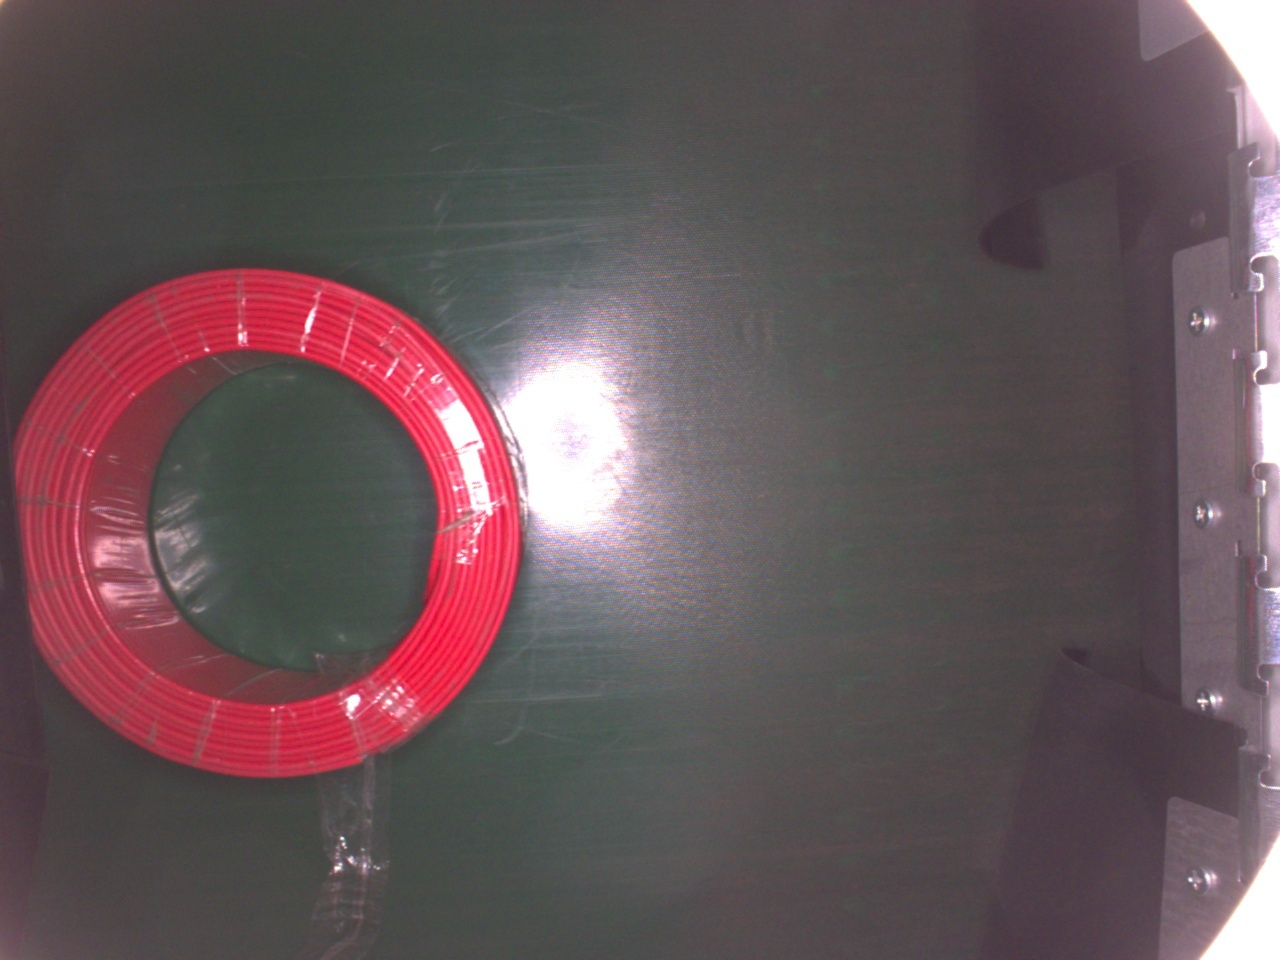red: (15, 259, 527, 779)
